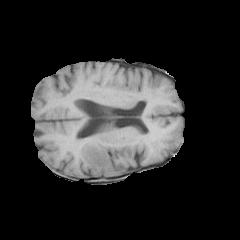glioma: (80, 136, 117, 176)
